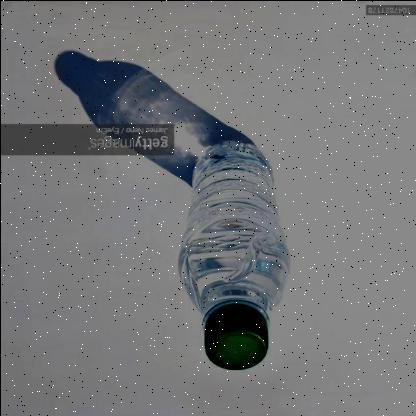Plastic Bottle: (178, 140, 288, 368)
